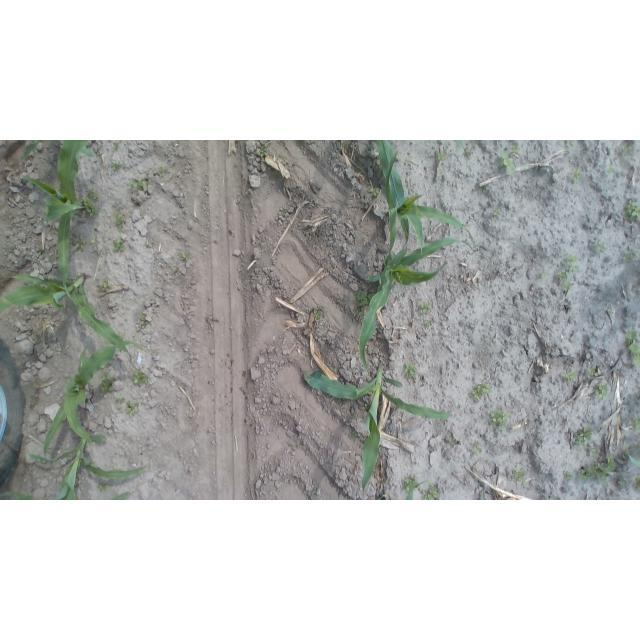Maize: (302, 361, 453, 491), (357, 235, 460, 374), (41, 338, 152, 458), (370, 141, 474, 258), (22, 141, 92, 304), (1, 273, 132, 356), (1, 433, 148, 500)
Weeds: (579, 455, 616, 486), (626, 329, 640, 369), (490, 408, 511, 432), (470, 382, 493, 401), (622, 200, 640, 223), (81, 198, 100, 219), (131, 369, 152, 388), (557, 269, 575, 291), (356, 291, 377, 309), (100, 371, 117, 393), (500, 152, 517, 174), (511, 467, 529, 485), (576, 427, 593, 446), (130, 178, 150, 194), (595, 380, 610, 400), (561, 255, 582, 269), (404, 476, 421, 493), (417, 299, 433, 316), (313, 303, 328, 321), (424, 484, 440, 500), (569, 167, 584, 184), (115, 214, 128, 233), (404, 363, 419, 379), (85, 187, 100, 202), (564, 370, 579, 385), (435, 150, 450, 165), (112, 236, 126, 252), (126, 400, 140, 416), (587, 363, 601, 379), (619, 142, 634, 156), (346, 430, 362, 443), (595, 244, 610, 257), (154, 164, 170, 176), (586, 446, 603, 457), (473, 442, 484, 458), (97, 480, 111, 492), (509, 143, 521, 156), (491, 203, 502, 217), (99, 277, 111, 289), (140, 314, 152, 326), (76, 238, 87, 251), (445, 436, 459, 446), (631, 474, 640, 489), (180, 252, 192, 263), (259, 145, 270, 157), (114, 395, 127, 405), (351, 414, 365, 423), (632, 416, 640, 431), (369, 187, 381, 197), (565, 472, 574, 485), (279, 203, 290, 213), (111, 161, 122, 171), (538, 269, 550, 278), (423, 320, 434, 329), (308, 491, 319, 500), (359, 310, 366, 324), (549, 492, 561, 500), (564, 140, 576, 148), (91, 235, 100, 245), (622, 253, 631, 263), (608, 165, 616, 175), (171, 266, 179, 275), (360, 402, 368, 411), (243, 187, 253, 194), (606, 307, 614, 315), (619, 478, 626, 486), (112, 143, 120, 150)
